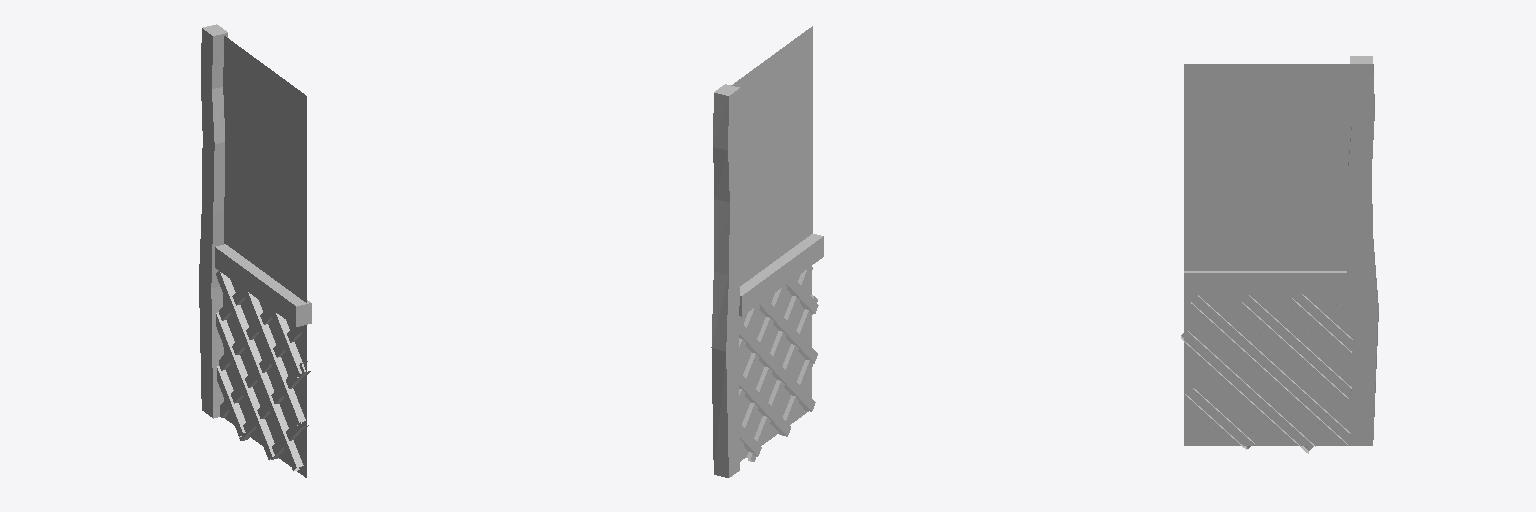
Rendered from sidePanelLP.obj.
The picture shows the model from 3 angles: view 1: azimuth 30°, elevation 25°; view 2: azimuth 150°, elevation 25°; view 3: azimuth 270°, elevation 25°; orthographic projection.
Parts seen in each view (by area): view 1: default; view 2: default; view 3: default.
Boxes of the visible parts, x1,y1,x2,y2 form: default: [199, 24, 311, 477]; default: [711, 26, 823, 477]; default: [1181, 56, 1378, 453].
Size of the model in its own units: 0.2583 by 6.34 by 2.91.